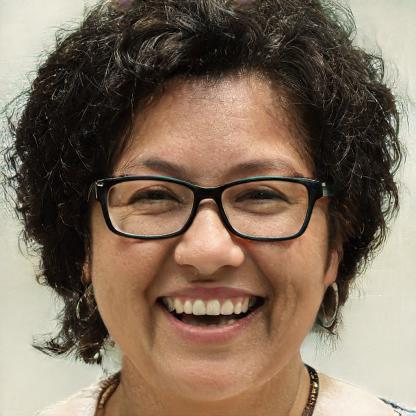glasses: (89, 170, 330, 247)
